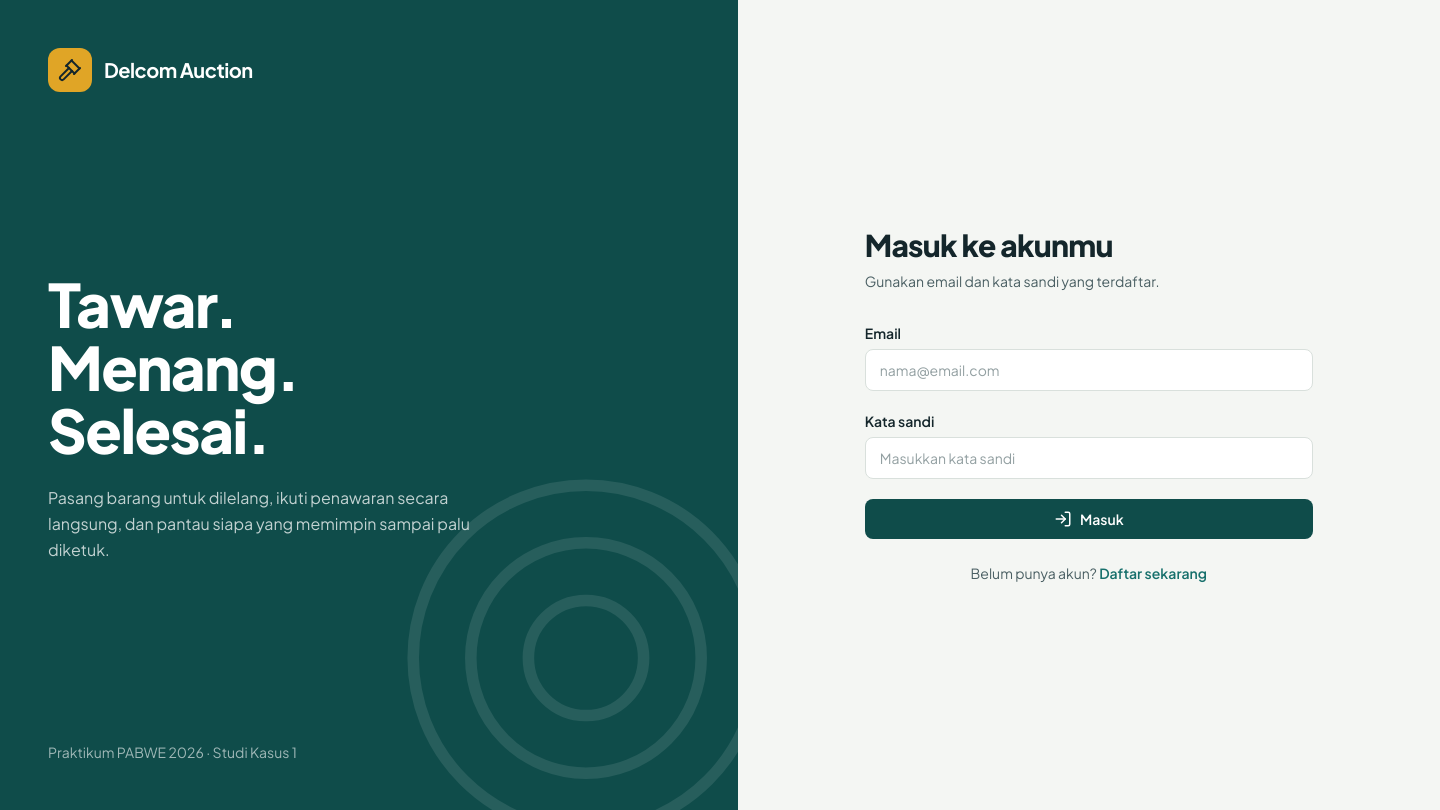
Test case: App (integrasi) › alur lengkap: login -> dashboard
Type "ani@mail.com" into the field labelled "Email" at coordinates (1089, 370), box [865,349,1313,391]
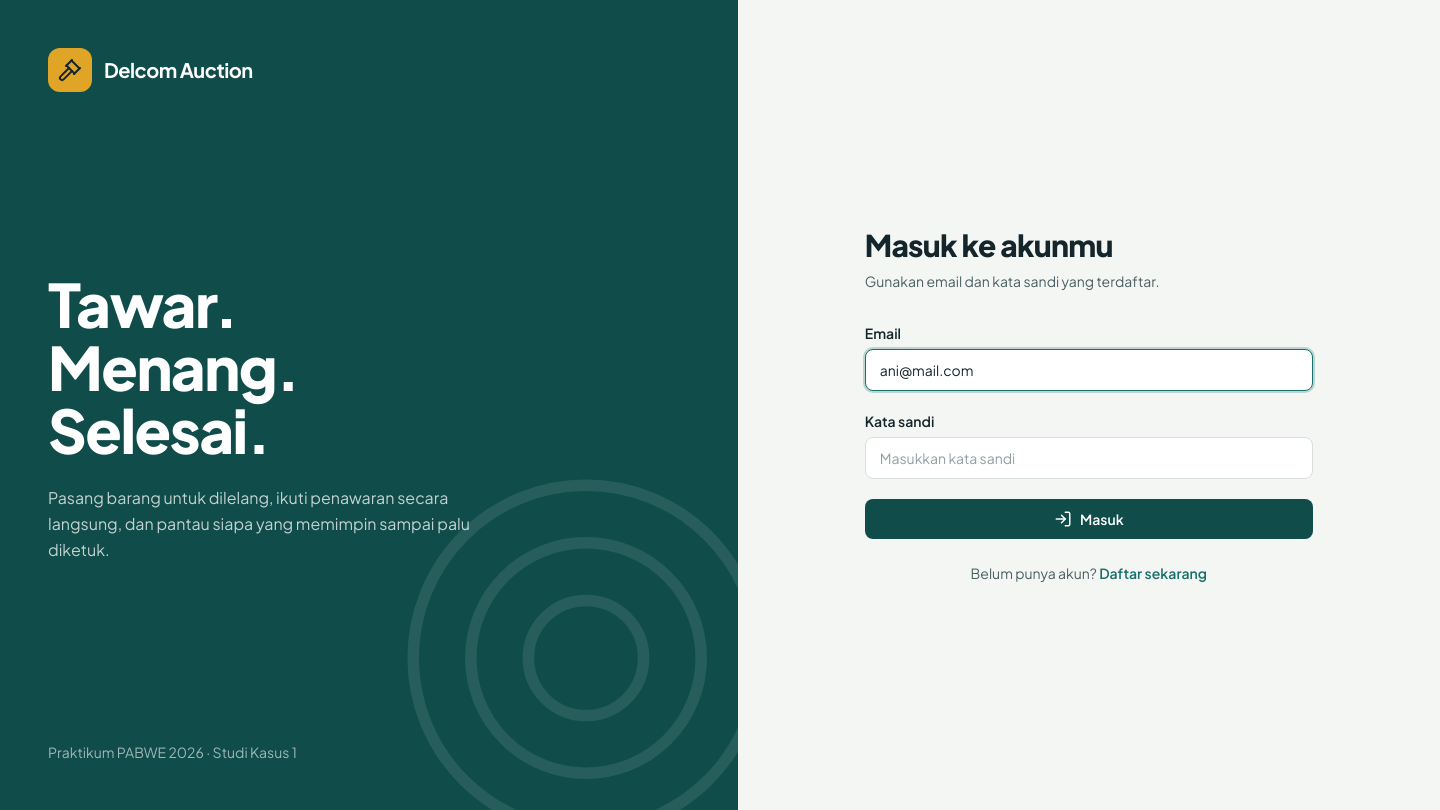
Type "rahasia" into the password field labelled "Kata sandi" at coordinates (1089, 458), box [865,437,1313,479]
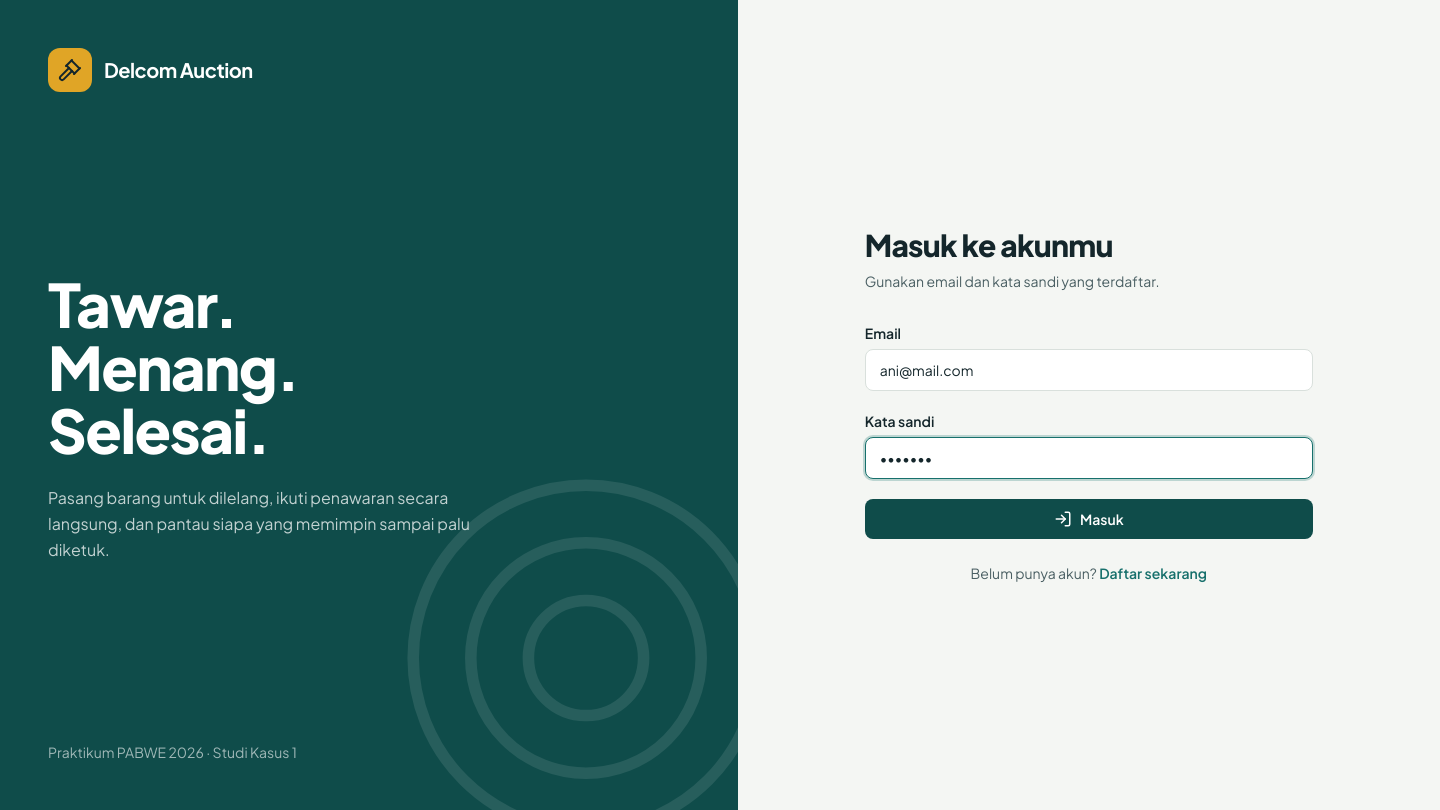
Click the button "Masuk" at coordinates (1089, 519), box [865,499,1313,539]
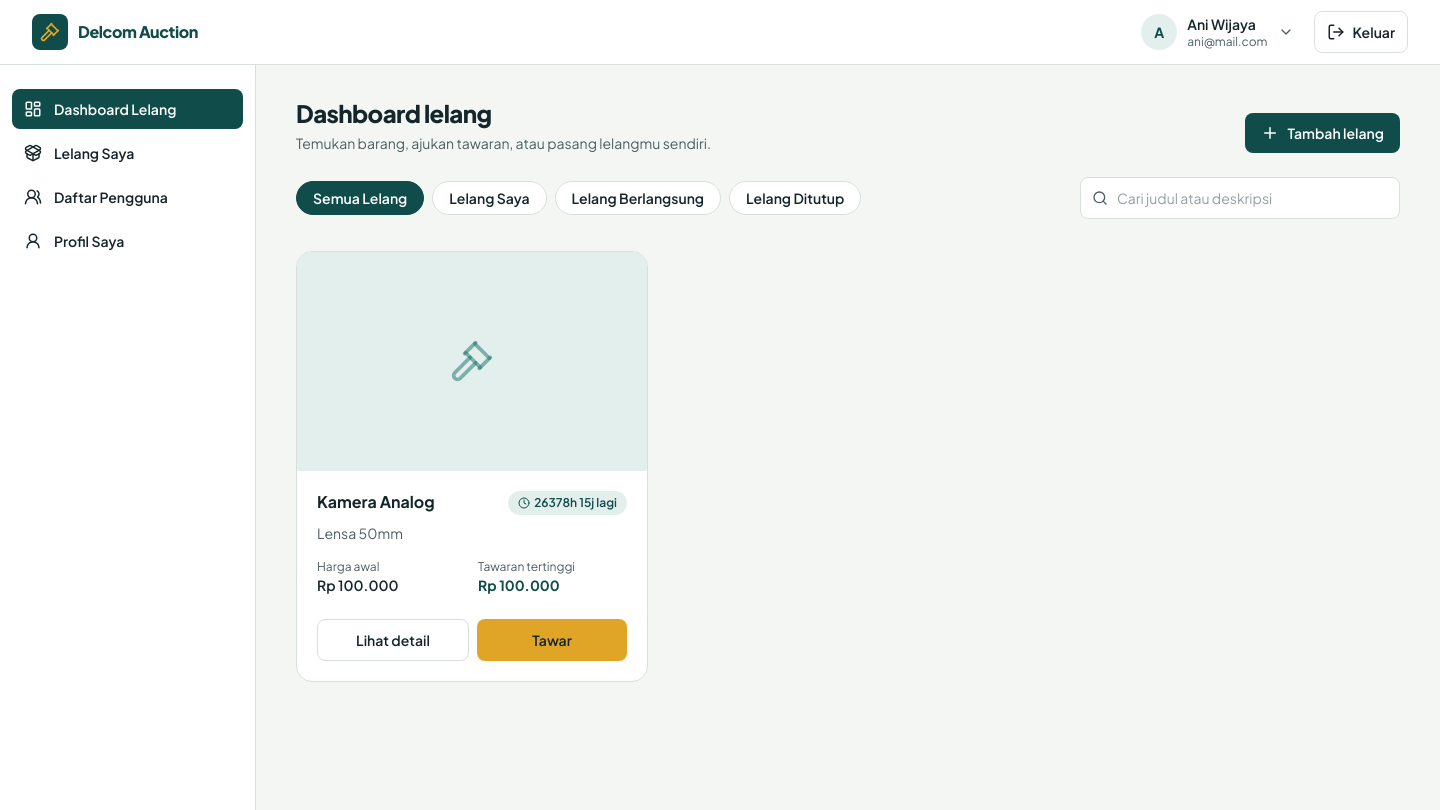
Expected: the heading "Kamera Analog" is shown, [317,491,435,513]
Expected: the text "Ani Wijaya" is shown, [1187,14,1268,34]
